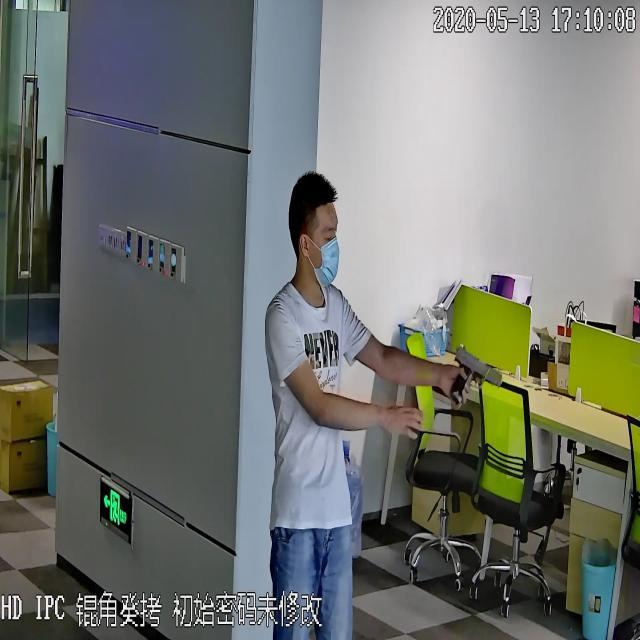gun: (447, 335, 505, 411)
